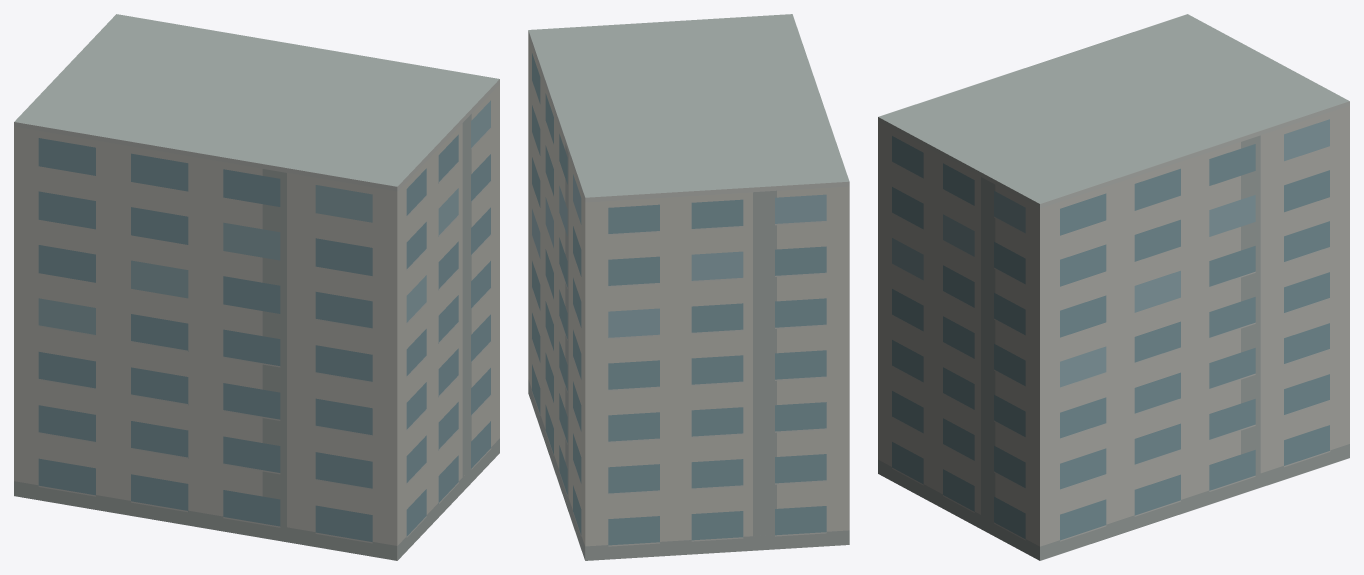
Rendered from residential-0ccc03c5-4127-40b7-9f1f-85ec6e9f5cc8.glb.
The picture shows the model from 3 angles, left to right: view 1: azimuth 30°, elevation 25°; view 2: azimuth 150°, elevation 25°; view 3: azimuth 270°, elevation 25°; orthographic projection. The views are drawn at different scales.
Visible parts, largest first — view 1: residential-0ccc03c5-4127-40b7-9f1f-85ec6e9f5cc8.tmp; view 2: residential-0ccc03c5-4127-40b7-9f1f-85ec6e9f5cc8.tmp; view 3: residential-0ccc03c5-4127-40b7-9f1f-85ec6e9f5cc8.tmp.
Boxes of the visible parts, bbox=[...] form: residential-0ccc03c5-4127-40b7-9f1f-85ec6e9f5cc8.tmp: bbox=[14, 14, 499, 560]; residential-0ccc03c5-4127-40b7-9f1f-85ec6e9f5cc8.tmp: bbox=[528, 14, 849, 560]; residential-0ccc03c5-4127-40b7-9f1f-85ec6e9f5cc8.tmp: bbox=[878, 14, 1349, 560].
Bounding box in the file's own units: 21.71 × 19 × 22.77.
